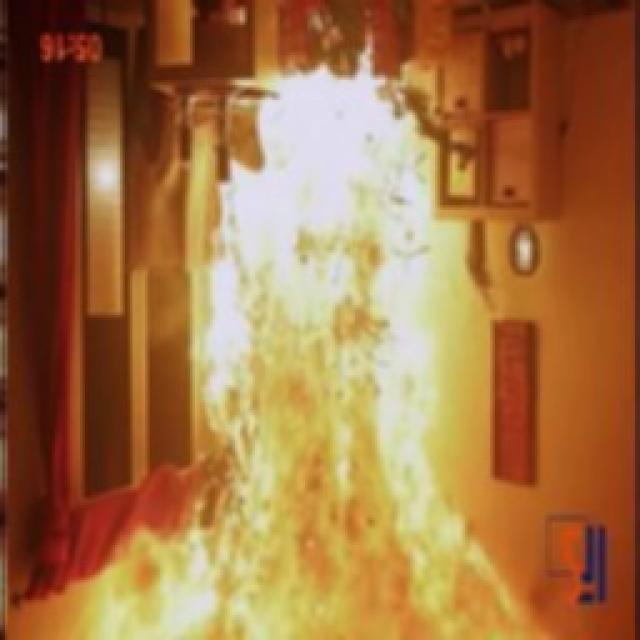fire: (125, 82, 540, 640)
